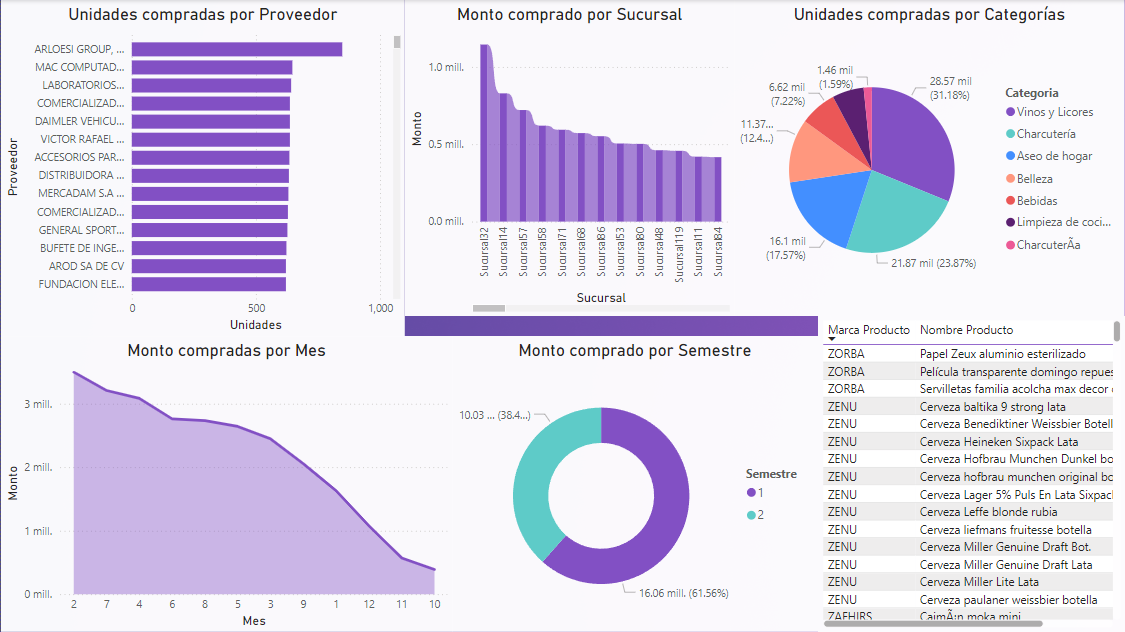

This screenshot's page, from the dashboard's own definition file:
{"tool":"powerbi","page":{"name":"Compras","canvas":[1280,720],"ordinal":0},"visuals":[{"type":"pieChart","title":"Unidades compradas por Categorías","fields":{"Category":["Dim Producto.Categoria"],"Y":["Fact Compras.Unidades - Fact Compras"]},"box":[834.9,0,445.1,360.5],"z":0},{"type":"barChart","title":"Unidades compradas por Proveedor","fields":{"Category":["Dim Proveedor.Nombre Proveedor"],"Y":["Fact Compras.Unidades - Fact Compras"]},"box":[0,0,459.8,382.5],"z":2000},{"type":"donutChart","title":"Monto comprado por Semestre","fields":{"Category":["Dim Fecha.Semestre"],"Y":["Fact Compras.Subtotal - Fact Compras"]},"box":[513.7,382.5,416.9,337.2],"z":2001},{"type":"areaChart","title":"Monto compradas por Mes","fields":{"Category":["Dim Fecha.Mes"],"Y":["Fact Compras.Subtotal - Fact Compras"]},"box":[0,382.8,513.8,337.2],"z":2002},{"type":"tableEx","fields":{"Values":["Dim Producto.Marca Producto","Dim Producto.Nombre Producto"]},"box":[930.8,360,349.7,360],"z":2003},{"type":"ribbonChart","title":"Monto comprado por Sucursal","fields":{"Category":["Dim Sucursal.Nombre Sucursal"],"Y":["Fact Compras.Subtotal - Fact Compras"]},"box":[459.8,0,375.2,360.5],"z":2004}]}

Visuals, with their boxes in screenshot pixels (x1, y1, x2, y2), scaled from the page's 1280x720 canvas onto the 1125x632 screenshot:
"Unidades compradas por Categorías" pieChart: [734, 0, 1124, 316]
"Unidades compradas por Proveedor" barChart: [0, 0, 404, 336]
"Monto comprado por Semestre" donutChart: [451, 336, 818, 631]
"Monto compradas por Mes" areaChart: [0, 336, 452, 631]
tableEx - Dim Producto.Marca Producto x Dim Producto.Nombre Producto: [818, 316, 1124, 631]
"Monto comprado por Sucursal" ribbonChart: [404, 0, 734, 316]
